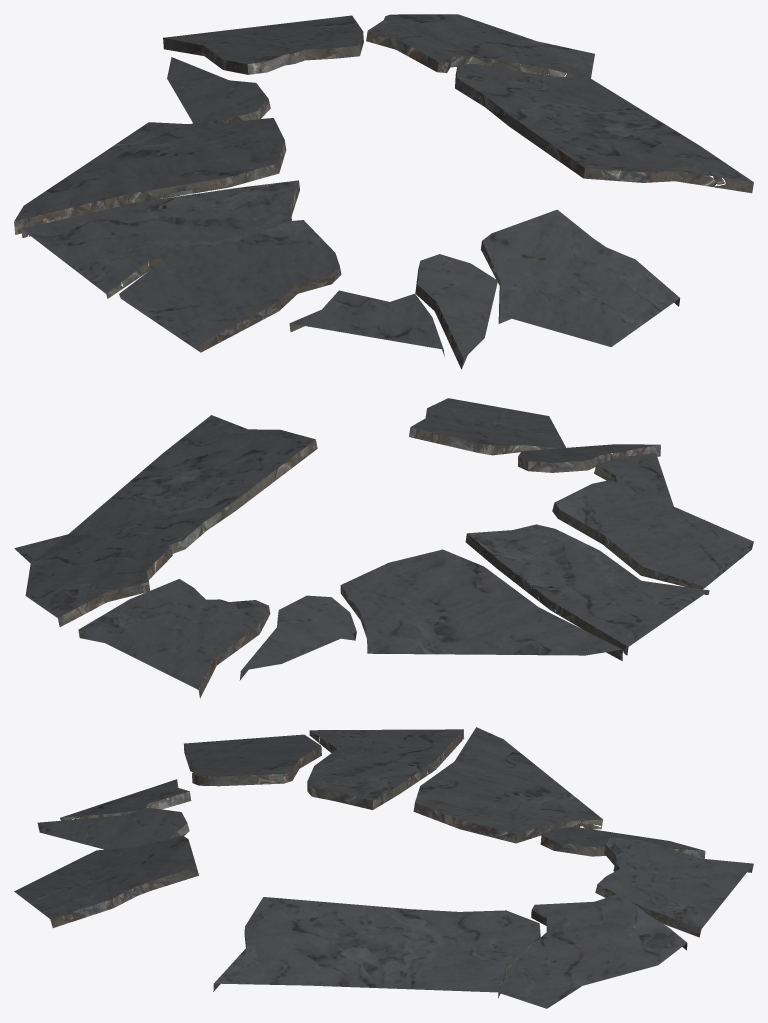
The picture shows the model from 3 angles, top to bottom: view 1: azimuth 30°, elevation 25°; view 2: azimuth 150°, elevation 25°; view 3: azimuth 270°, elevation 25°; orthographic projection. The views are drawn at different scales.
Parts seen in each view (by area): view 1: SM_Kuldra_Floor_Dmg_02_LOD0; view 2: SM_Kuldra_Floor_Dmg_02_LOD0; view 3: SM_Kuldra_Floor_Dmg_02_LOD0.
Part boxes in pixels (bbox=[...]): SM_Kuldra_Floor_Dmg_02_LOD0: bbox=[14, 14, 753, 369]; SM_Kuldra_Floor_Dmg_02_LOD0: bbox=[14, 398, 753, 698]; SM_Kuldra_Floor_Dmg_02_LOD0: bbox=[14, 727, 753, 1008].
Size of the model in its own units: 6.5 by 0.5507 by 7.5.
2 materials, 2 textured.
